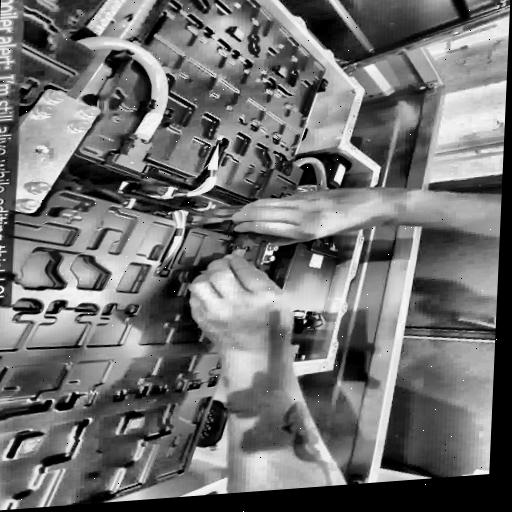high_volt_cable: (53, 21, 178, 182), (282, 155, 336, 204)
nut: (30, 101, 57, 121), (23, 179, 52, 196), (14, 197, 40, 213), (69, 117, 91, 133), (80, 103, 101, 119), (46, 89, 66, 104)
